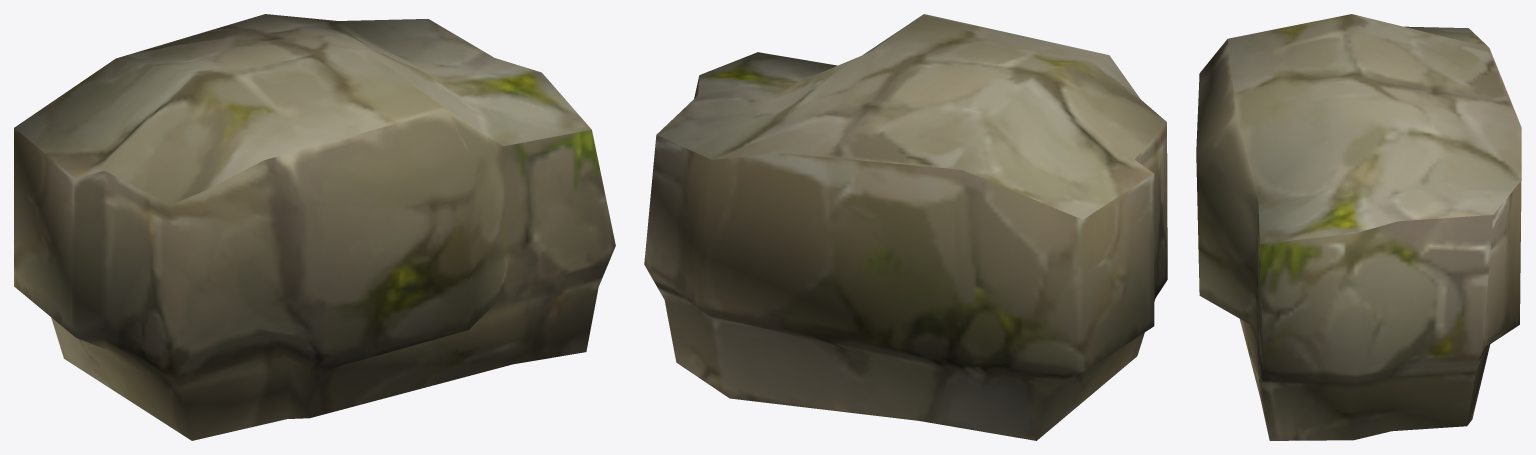
File: DN_lv4_Rock_B.FBX
3 views of the same model, side by side, from view 1: azimuth 30°, elevation 25°; view 2: azimuth 150°, elevation 25°; view 3: azimuth 270°, elevation 25° (orthographic). The views are drawn at different scales.
Parts seen in each view (by area): view 1: DN_lv4_Rock_B; view 2: DN_lv4_Rock_B; view 3: DN_lv4_Rock_B.
Boxes of the visible parts, x1,y1,x2,y2 form: DN_lv4_Rock_B: (14,14,615,440); DN_lv4_Rock_B: (644,14,1167,440); DN_lv4_Rock_B: (1196,14,1521,440).
Size of the model in its own units: 665 by 448 by 434.
